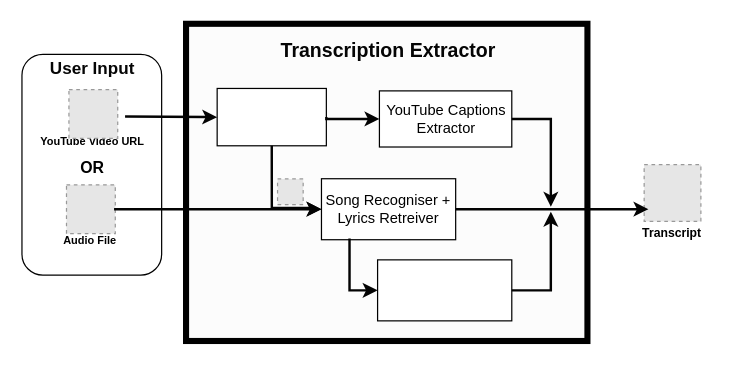
This 734x365 diagram has some shape labels left out. Grey dashed boxes stand in for pictures. Here are the shapes that lost their labels. From the top down, the box of each, then its label:
(216, 87, 326, 146): YouTube Audio Extractor
(376, 259, 512, 321): Audio Transcriber
